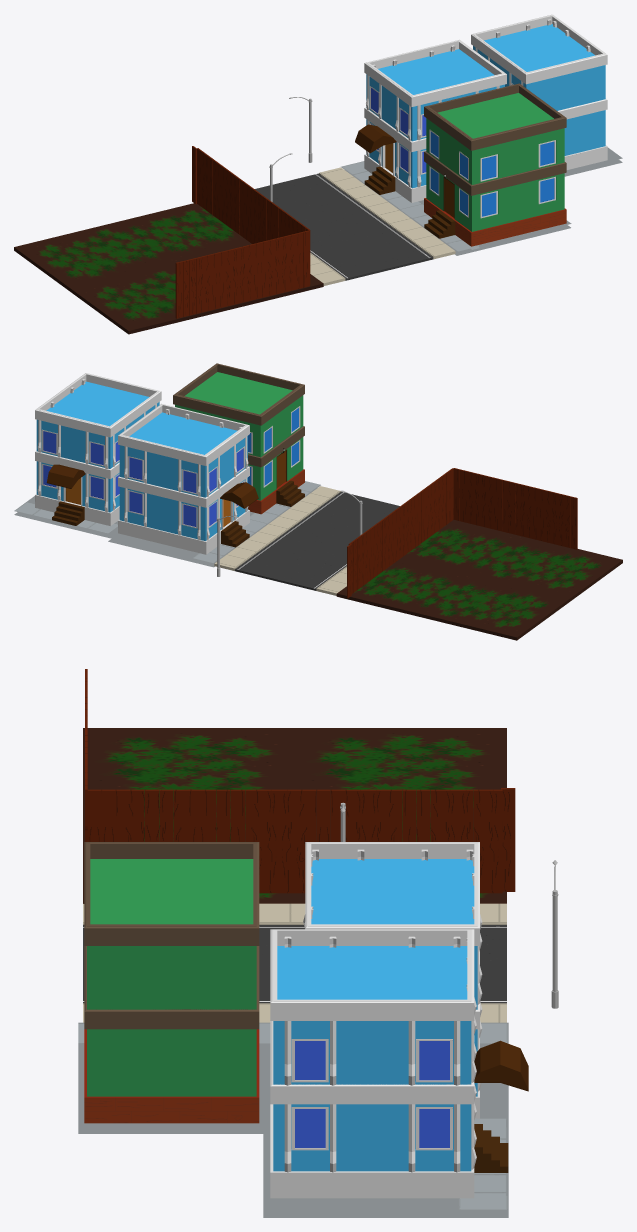
File: CityPt7.fbx
The picture shows the model from 3 angles, top to bottom: view 1: azimuth 30°, elevation 25°; view 2: azimuth 150°, elevation 25°; view 3: azimuth 270°, elevation 25°; orthographic projection. The views are drawn at different scales.
Visible parts, largest first — view 1: Baldio.001, Ed12.001, Ed13.001, StreetCo.006, Ed13.009; view 2: Baldio.001, Ed13.001, Ed13.009, Ed12.001, StreetCo.006; view 3: Ed13.009, Baldio.001, Ed12.001, Ed13.001, StreetCo.006, PosteLuz.011.
Boxes of the visible parts, bbox=[...] form: Baldio.001: bbox=[14, 146, 323, 334]; Ed12.001: bbox=[399, 83, 571, 255]; Ed13.001: bbox=[341, 39, 506, 212]; StreetCo.006: bbox=[255, 167, 455, 285]; Ed13.009: bbox=[471, 14, 622, 176]; Baldio.001: bbox=[336, 468, 622, 640]; Ed13.001: bbox=[108, 403, 267, 567]; Ed13.009: bbox=[14, 373, 161, 537]; Ed12.001: bbox=[173, 363, 320, 526]; StreetCo.006: bbox=[214, 486, 399, 595]; Ed13.009: bbox=[263, 929, 528, 1217]; Baldio.001: bbox=[83, 669, 515, 903]; Ed12.001: bbox=[78, 842, 270, 1133]; Ed13.001: bbox=[303, 842, 508, 1118]; StreetCo.006: bbox=[83, 903, 506, 1022]; PosteLuz.011: bbox=[551, 860, 558, 1008].
Bounding box in the file's own units: 41.03 × 8.25 × 16.98.
